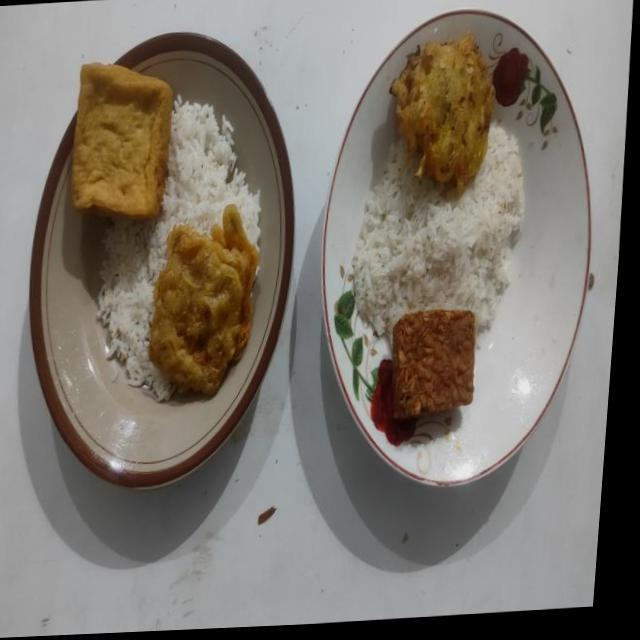nasi_putih: (97, 96, 260, 400), (352, 124, 524, 344)
tahu_goreng: (71, 63, 172, 217)
tempe_goreng: (391, 309, 475, 418)
